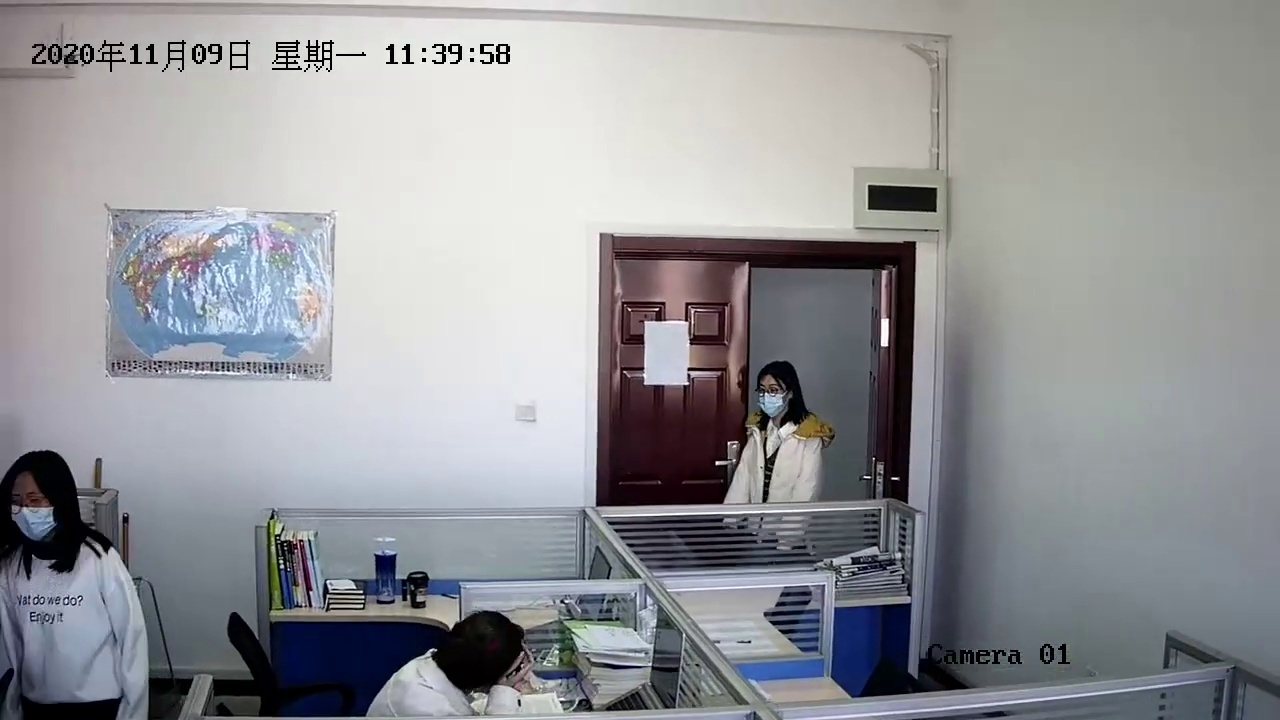mask: (4, 455, 67, 543), (755, 366, 797, 429)
